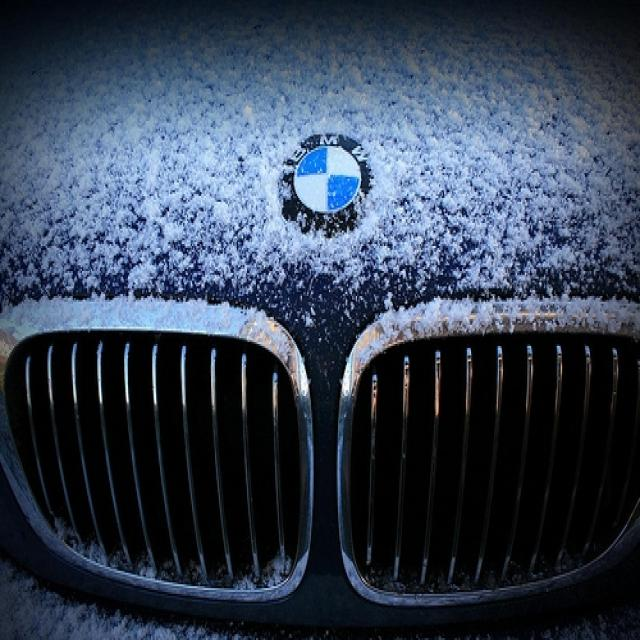bmw: (276, 126, 380, 245)
